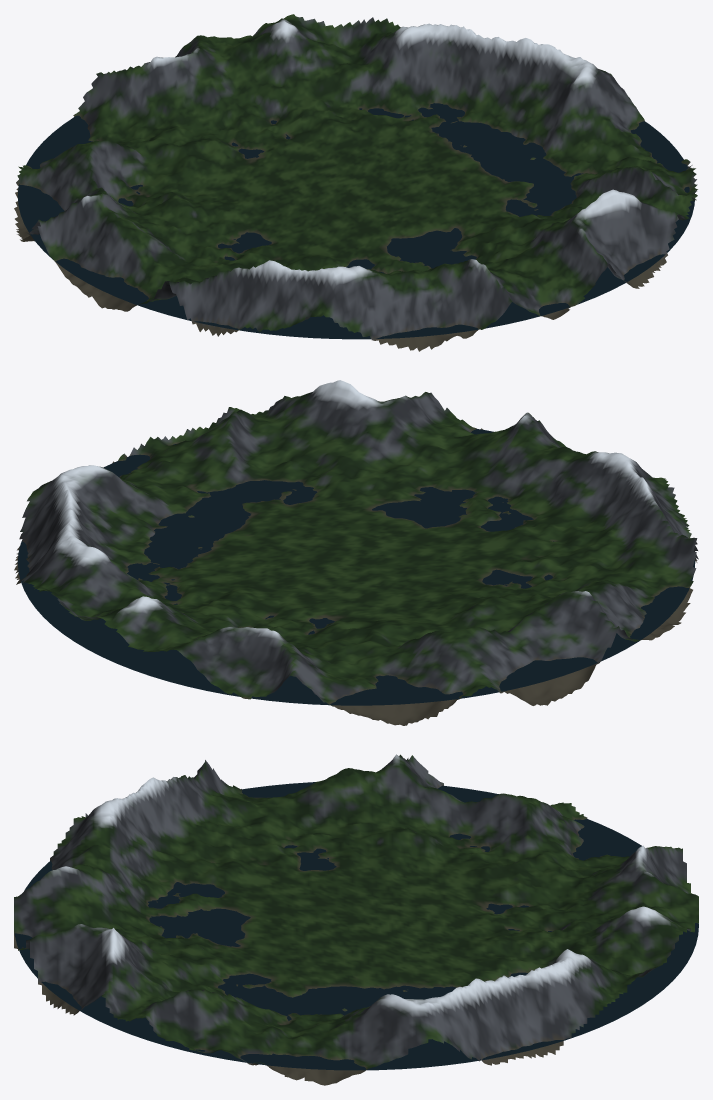
File: sb_env.glb
3 renders of one model, top to bottom at view 1: azimuth 30°, elevation 25°; view 2: azimuth 150°, elevation 25°; view 3: azimuth 270°, elevation 25°, orthographic.
Parts seen in each view (by area): view 1: SB_TERRAIN, SB_WATER_EXPORT; view 2: SB_TERRAIN, SB_WATER_EXPORT; view 3: SB_TERRAIN, SB_WATER_EXPORT.
Part boxes in pixels (bbox=[...]): SB_TERRAIN: bbox=[14, 14, 697, 351]; SB_WATER_EXPORT: bbox=[17, 103, 694, 339]; SB_TERRAIN: bbox=[14, 380, 698, 725]; SB_WATER_EXPORT: bbox=[17, 429, 695, 705]; SB_TERRAIN: bbox=[14, 754, 698, 1085]; SB_WATER_EXPORT: bbox=[14, 782, 698, 1070].
Bounding box in the file's own units: 860 × 119 × 860.
